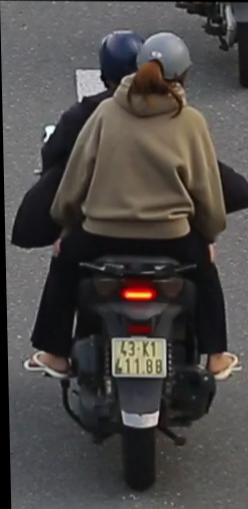LP: (108, 334, 170, 378)
helmet: (136, 29, 198, 108), (96, 27, 151, 101)
